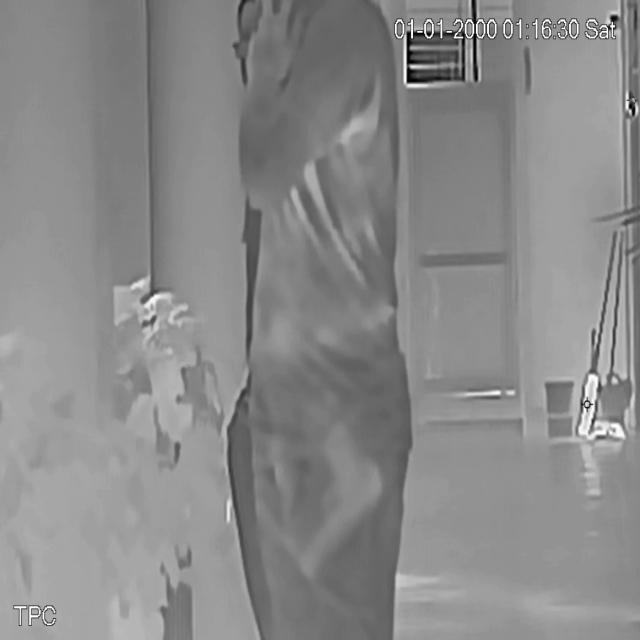Weapon: (270, 386, 402, 614)
